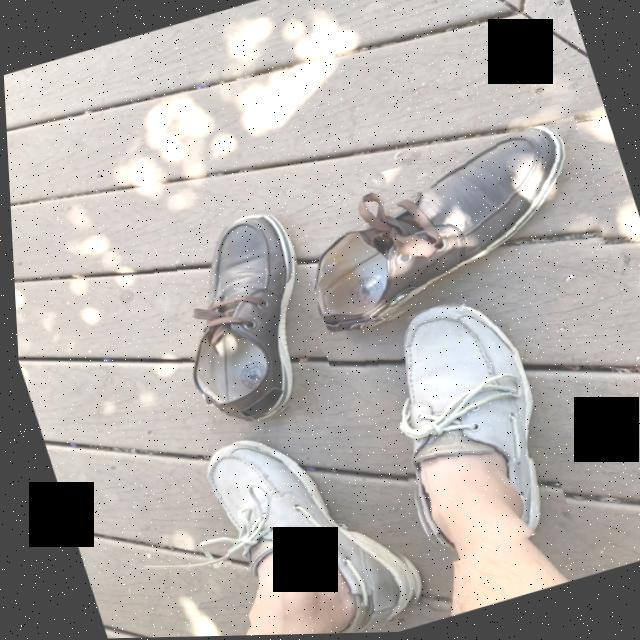shoe: (315, 125, 580, 325), (196, 443, 408, 628), (394, 311, 531, 556), (185, 217, 293, 420)
